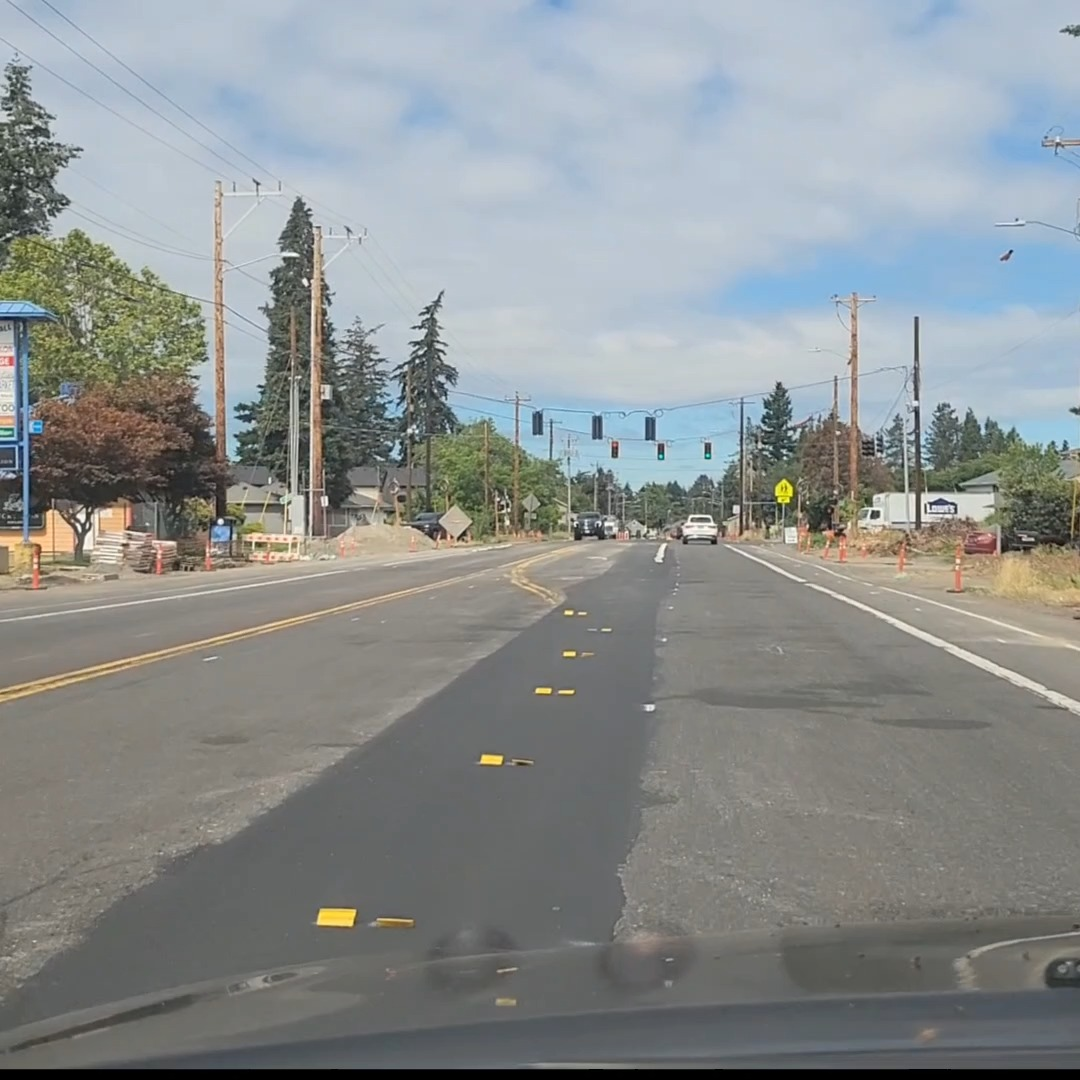car: (404, 511, 449, 540), (679, 514, 719, 544), (575, 512, 602, 539), (1010, 530, 1037, 553), (599, 516, 617, 539), (662, 522, 683, 540)
crosswalk-sign: (774, 479, 792, 502)
delineator: (946, 542, 965, 593), (31, 546, 42, 588), (896, 539, 906, 574), (837, 532, 847, 562), (204, 541, 212, 570), (154, 545, 162, 574), (860, 538, 868, 557), (409, 533, 417, 551), (338, 537, 345, 556)
